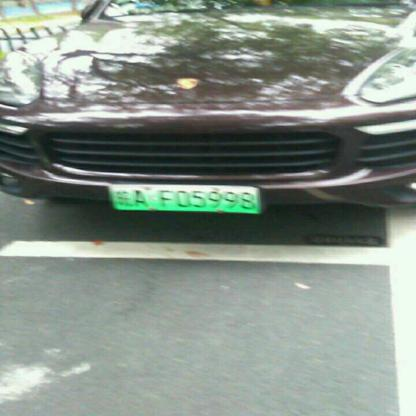lp: (108, 186, 260, 213)
